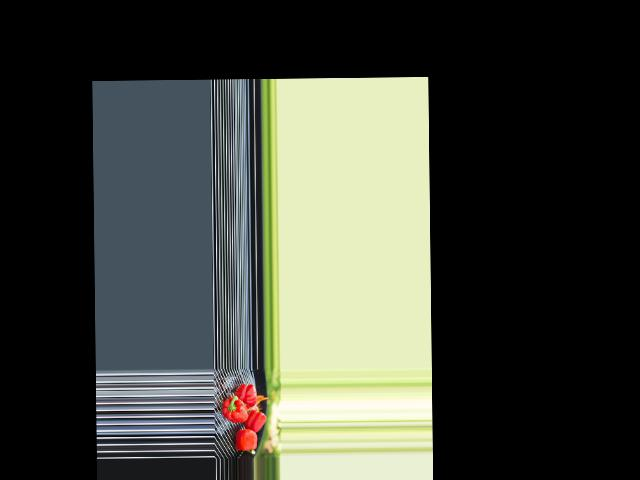bell_pepper: (236, 383, 258, 408)
